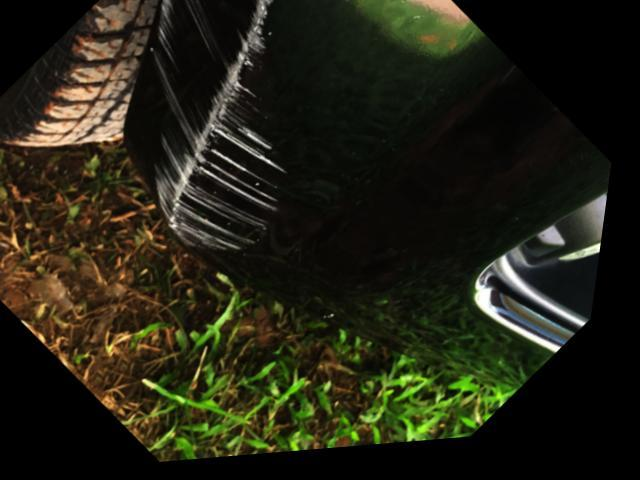rub: (153, 0, 288, 262)
